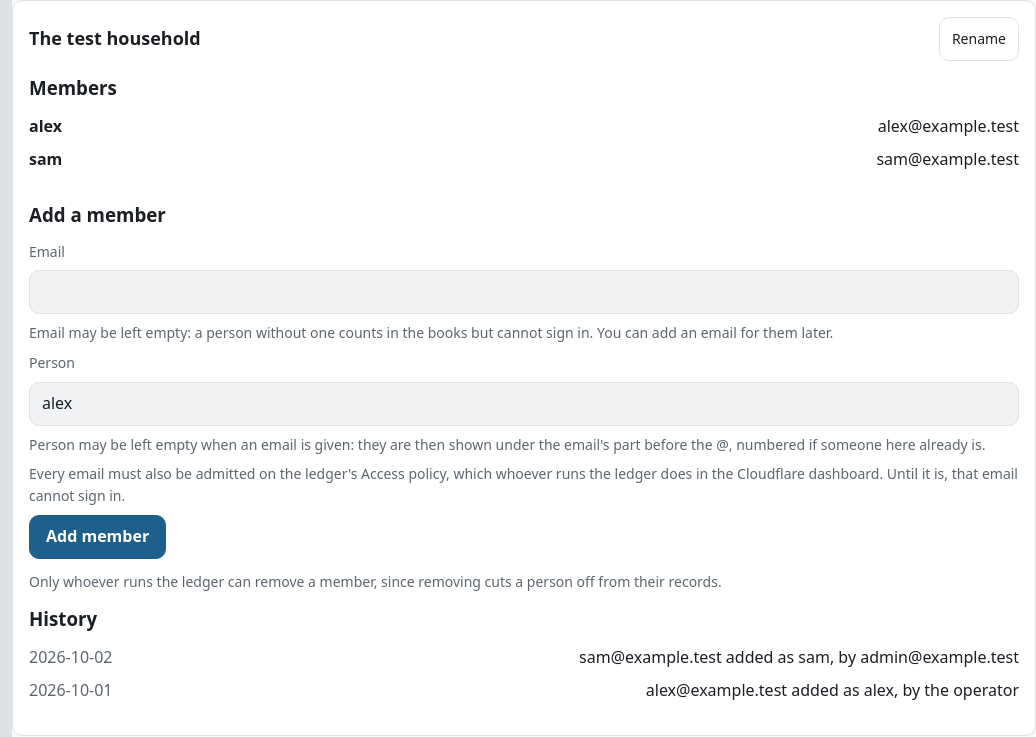
Scenario: adds a member, tells them the address must be admitted on Access, and shows the list again
Expected: the heading "The test household" is shown, [29,26,201,50]
Expected: the text "must also be admitted on the ledger.s Access policy" is shown, [29,464,1018,505]
Type "sam.phone@example.test" into the field labelled "Email".
click(524, 292); type("sam.phone@example.test")  # box [29,270,1019,314]
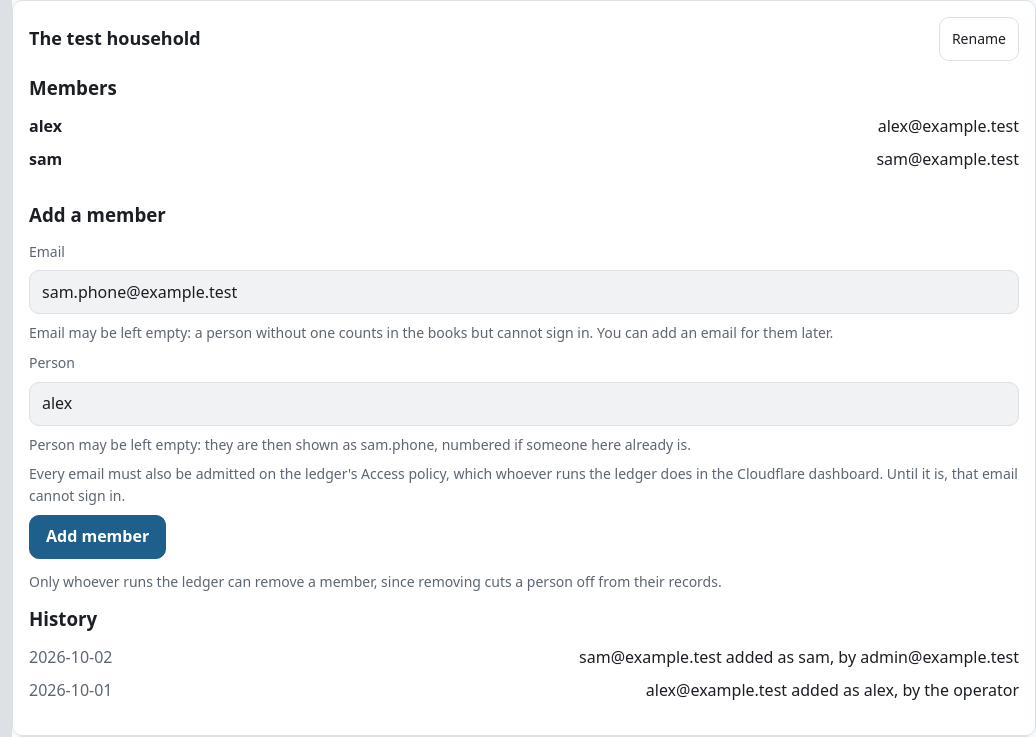
Replace the text in the field labelled "Person" with "sam" at (524, 404), box [29,382,1019,426]
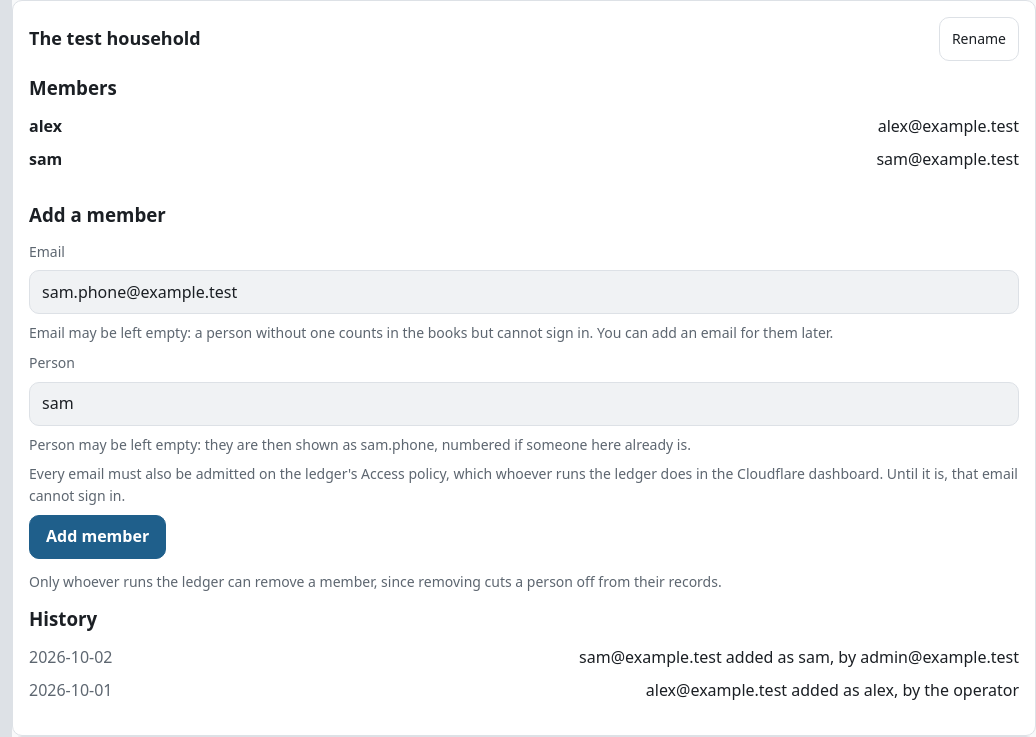
Click the button "Add member".
click(98, 537)  # box [29,515,166,559]
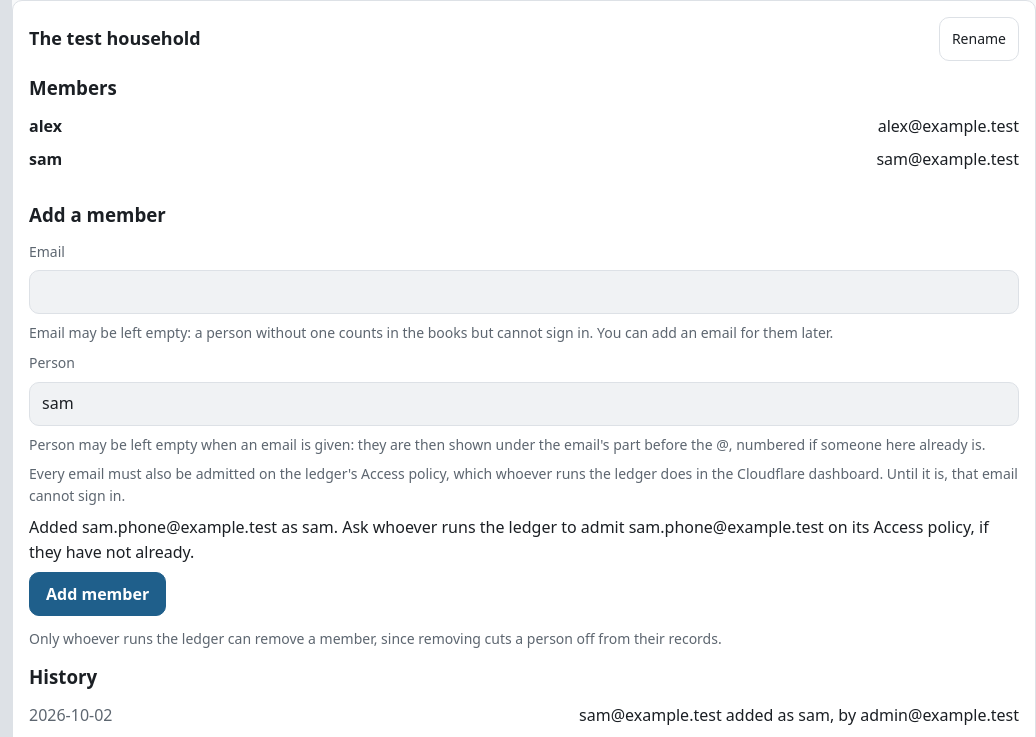
Expected: the text "admit sam.phone@example.test on its Access policy" is shown, [29,516,989,562]
